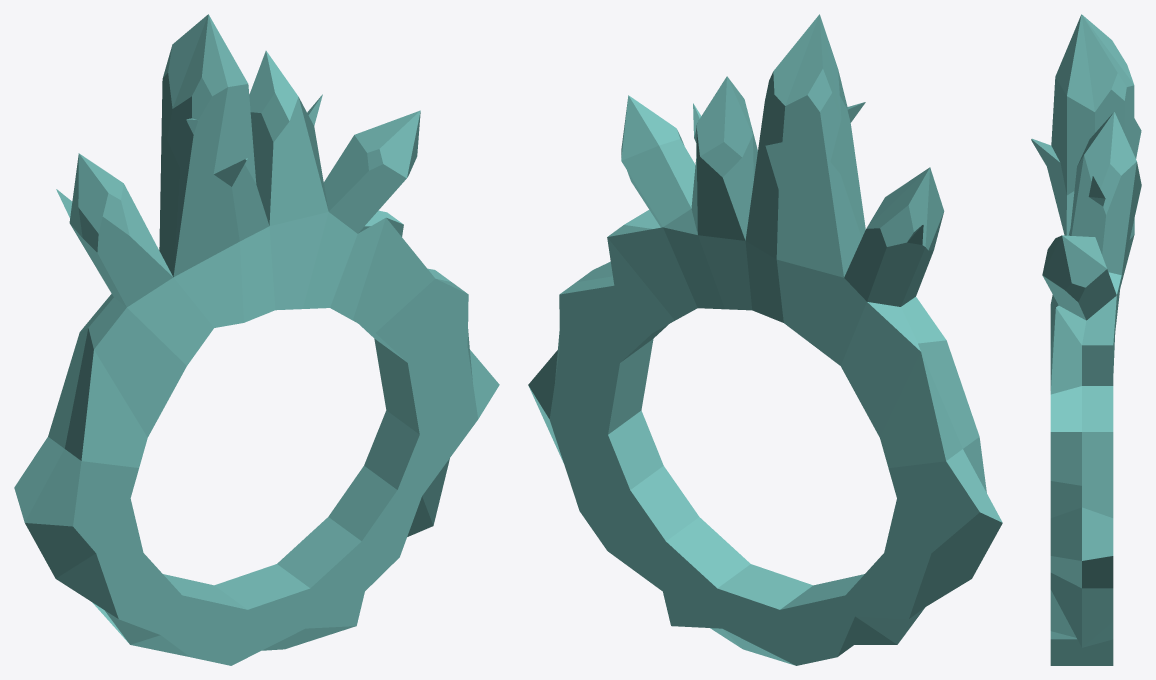
The model's file is icering.fbx.
3 views of the same model, side by side, from view 1: azimuth 30°, elevation 25°; view 2: azimuth 150°, elevation 25°; view 3: azimuth 270°, elevation 25° (orthographic). The views are drawn at different scales.
Visible parts, largest first — view 1: Circle; view 2: Circle; view 3: Circle.
Part boxes in pixels (left/top/right/bottom): Circle: left=14, top=14, right=499, bottom=665; Circle: left=528, top=14, right=1002, bottom=665; Circle: left=1031, top=14, right=1141, bottom=665.
Bounding box in the file's own units: 1112 × 1463 × 239.
